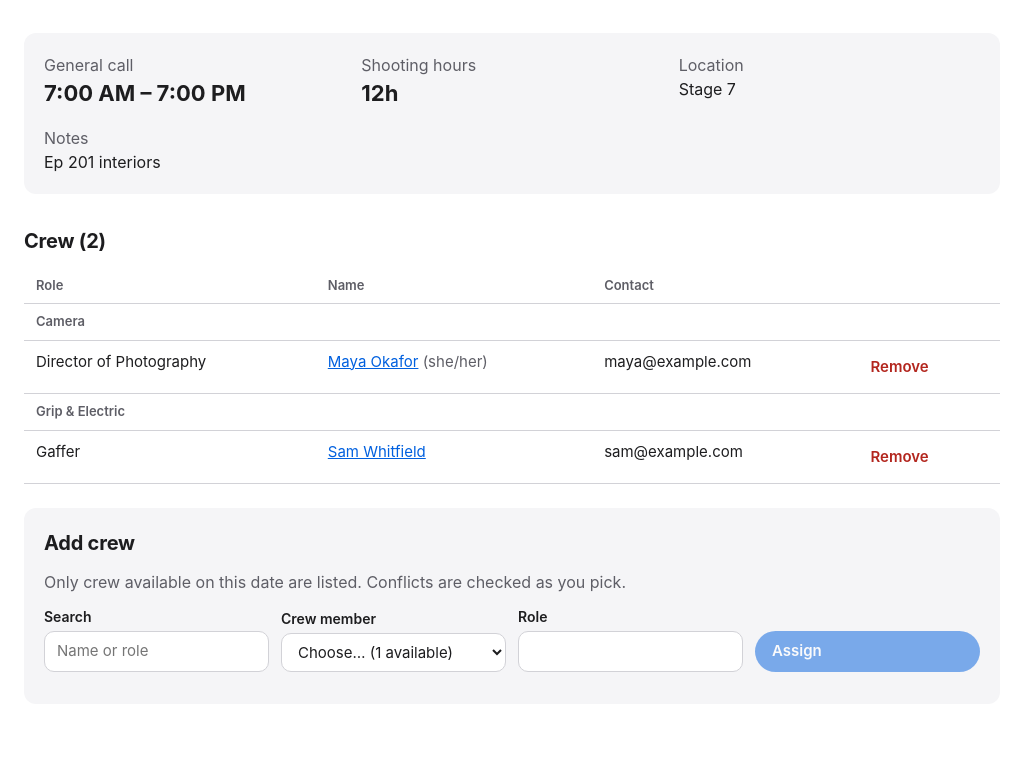
Test case: ShootDayView › shows scheduling conflicts returned by the API as an alert
(page scrolled)
Select "Lucia Ferreira (Camera)" in the dropdown labelled "Crew member" at (394, 652), box [281, 633, 506, 672]
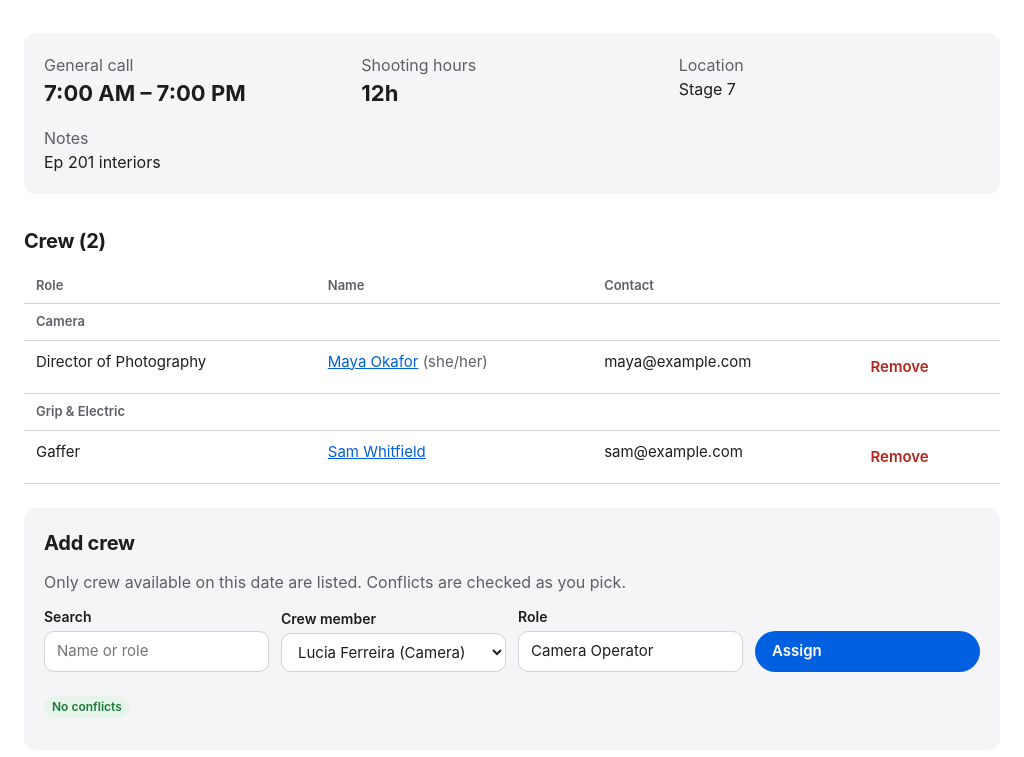
Submit the form, box [24, 508, 1000, 750]
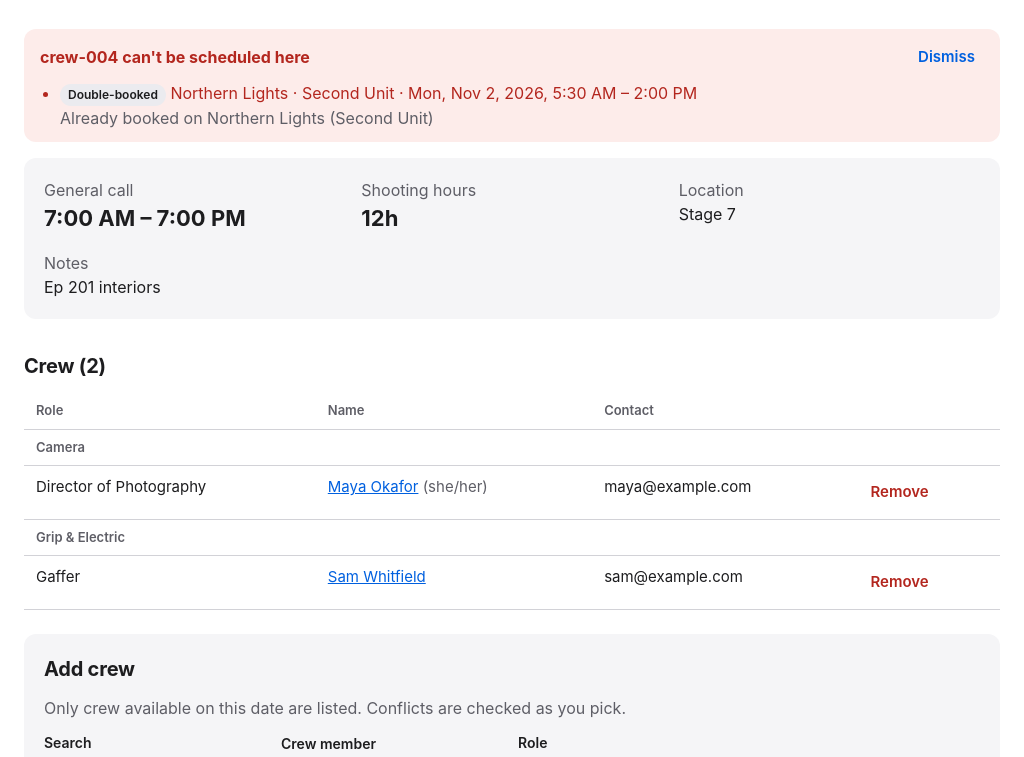
Result: the message shows "Double-booked" at [68, 87, 158, 102]
Result: the message shows "Second Unit" at [166, 83, 697, 103]
